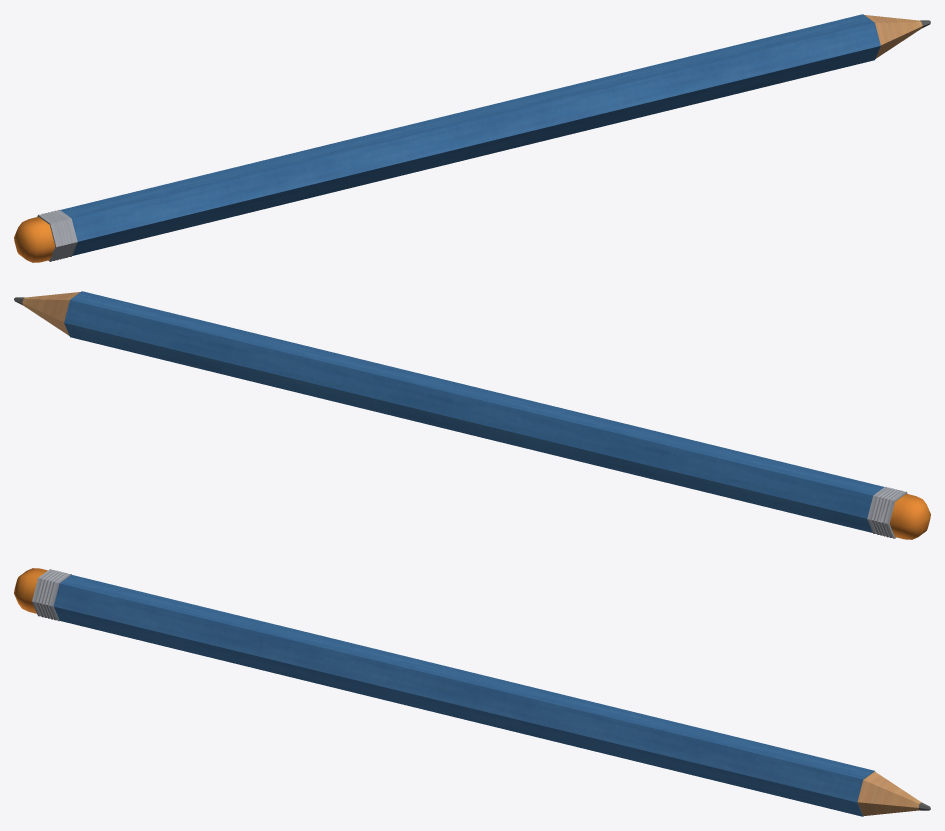
File: Pencil 4.fbx
3 renders of one model, top to bottom at view 1: azimuth 30°, elevation 25°; view 2: azimuth 150°, elevation 25°; view 3: azimuth 330°, elevation 25°, orthographic.
Visible parts, largest first — view 1: Pencil 4; view 2: Pencil 4; view 3: Pencil 4.
Part boxes in pixels (x1=…): Pencil 4: x1=14, y1=14, x2=930, y2=262; Pencil 4: x1=14, y1=291, x2=930, y2=539; Pencil 4: x1=14, y1=568, x2=930, y2=816.
Size of the model in its own units: 17.7 by 0.7128 by 0.8231.
Materials: 1 (1 with a texture image).
